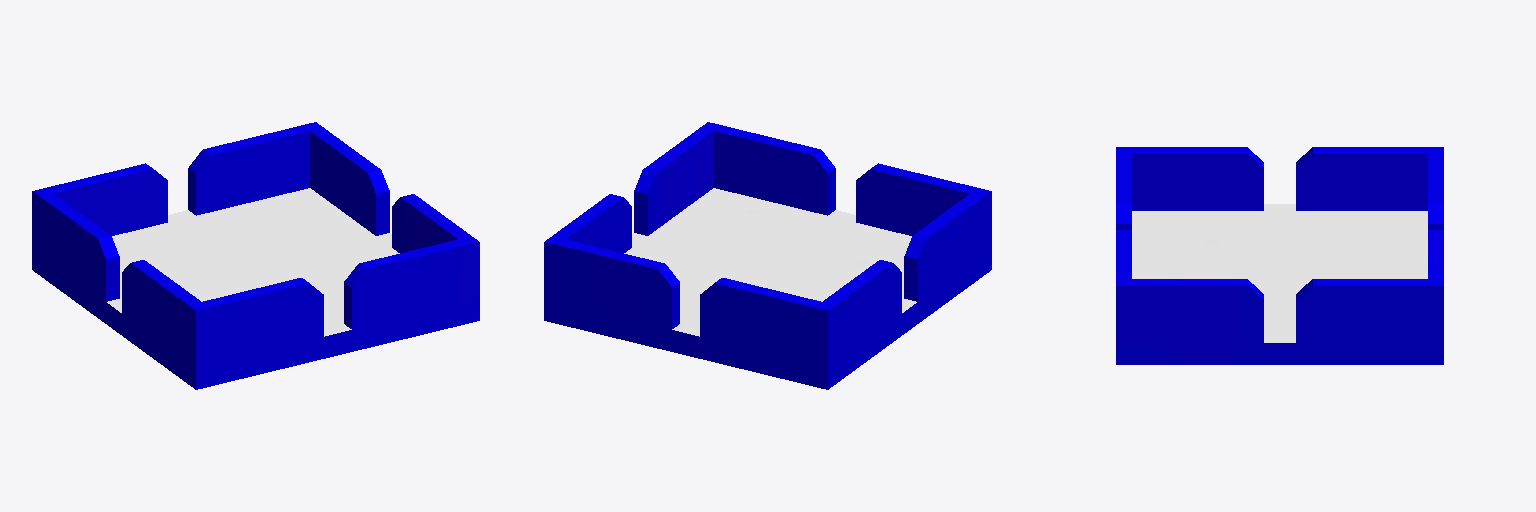
3 renders of one model, left to right at view 1: azimuth 30°, elevation 25°; view 2: azimuth 150°, elevation 25°; view 3: azimuth 270°, elevation 25°, orthographic.
Parts seen in each view (by area): view 1: Room_Plus_Cube; view 2: Room_Plus_Cube; view 3: Room_Plus_Cube.
Boxes of the visible parts, <box> form: Room_Plus_Cube: <box>32,122,479,389</box>; Room_Plus_Cube: <box>544,122,991,389</box>; Room_Plus_Cube: <box>1116,147,1443,364</box>.
Bounding box in the file's own units: 2 × 0.5341 × 2.
Materials: 1 (1 with a texture image).